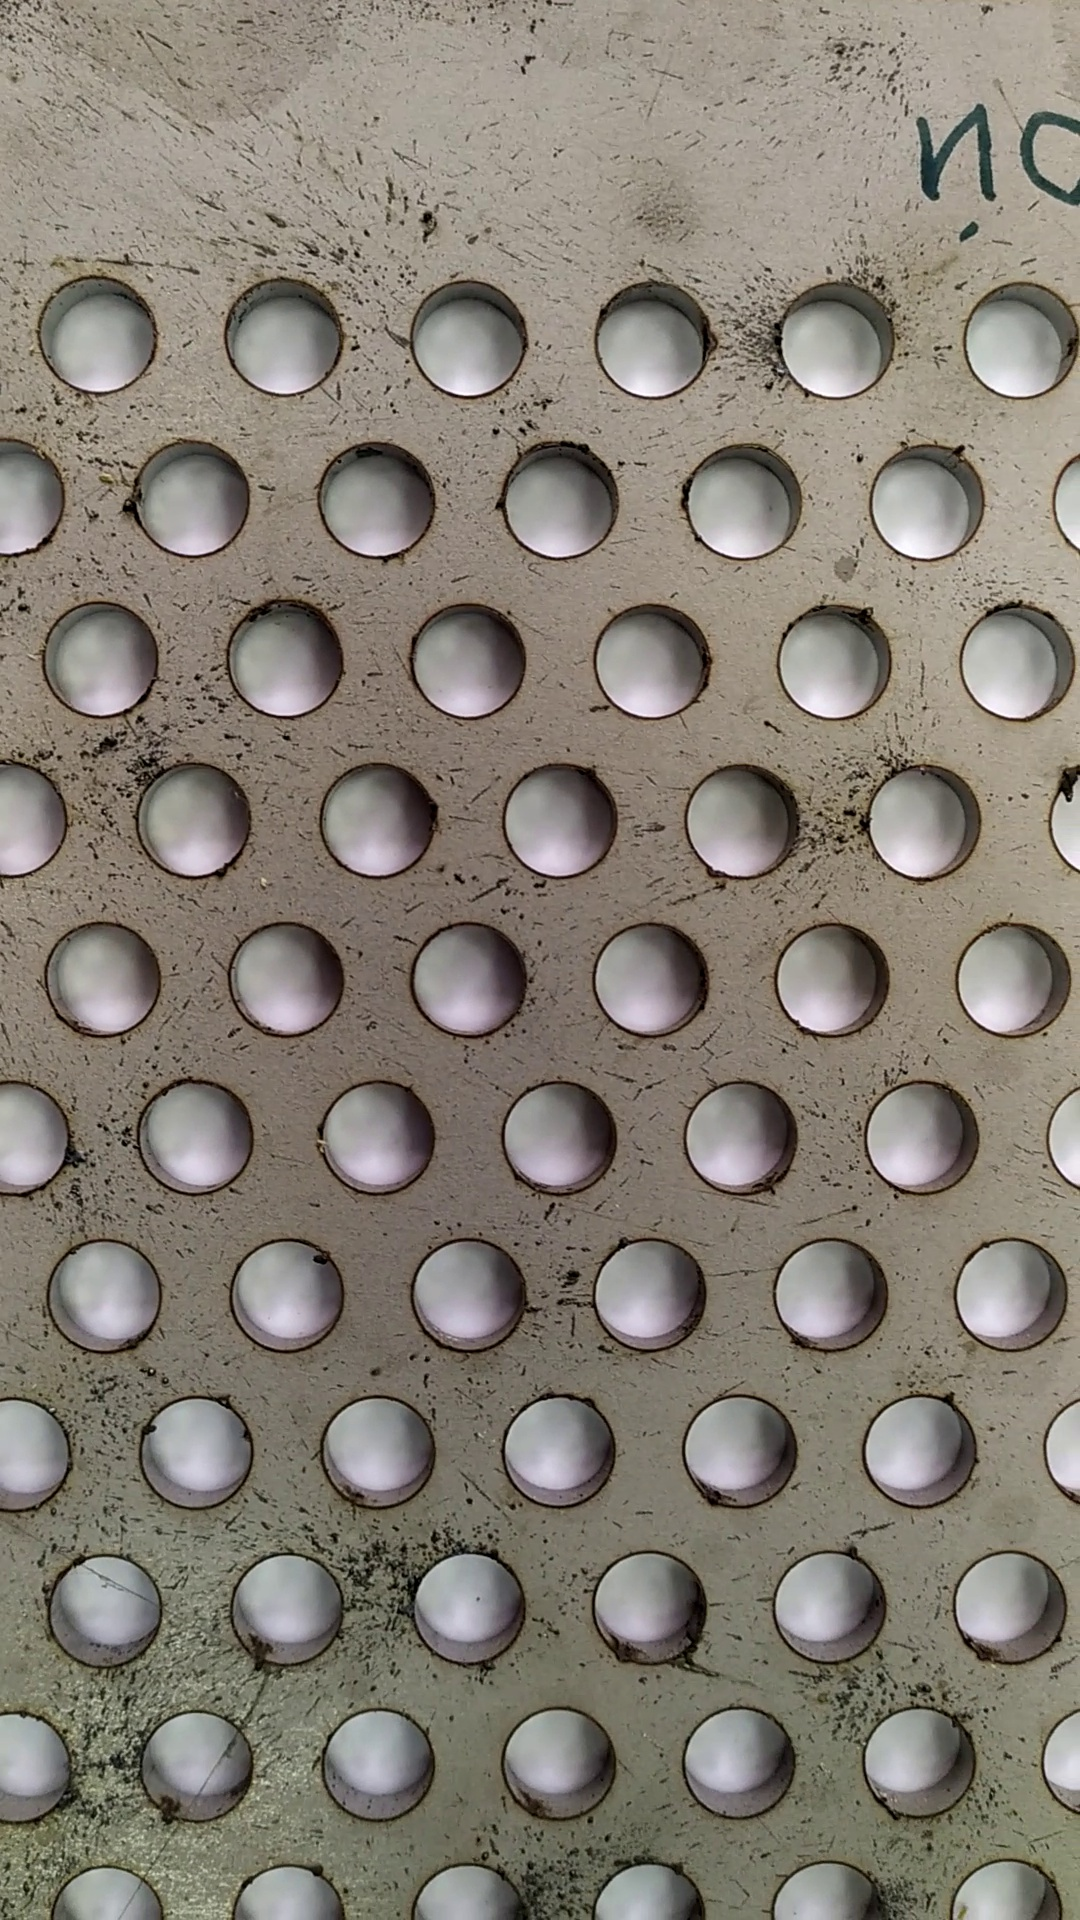Hole: (210, 583, 369, 723), (22, 583, 171, 728), (667, 1375, 820, 1516), (214, 266, 363, 404), (853, 433, 1006, 566), (116, 1695, 269, 1828), (218, 1540, 369, 1673), (112, 1389, 281, 1507), (104, 756, 258, 884), (578, 1234, 732, 1362), (305, 1379, 447, 1516), (394, 1544, 543, 1675), (302, 1701, 462, 1822), (485, 1695, 624, 1834), (853, 1689, 994, 1826), (849, 752, 992, 887), (667, 1689, 800, 1834), (398, 268, 535, 407), (673, 752, 802, 899), (392, 913, 541, 1040), (582, 589, 724, 723), (582, 270, 723, 404), (676, 1069, 808, 1211), (392, 593, 535, 723), (24, 913, 177, 1034), (857, 1377, 985, 1522), (117, 436, 265, 562), (753, 1544, 902, 1668), (32, 266, 169, 401), (120, 1068, 262, 1197), (487, 1071, 630, 1199), (491, 1393, 640, 1515), (487, 426, 622, 560), (764, 1232, 899, 1366), (947, 266, 1080, 404), (765, 911, 894, 1052), (949, 1224, 1077, 1366), (583, 913, 728, 1038), (309, 1071, 443, 1205), (220, 1228, 359, 1358), (32, 1545, 173, 1673), (679, 434, 812, 568), (858, 1071, 992, 1205), (402, 1230, 538, 1362), (949, 593, 1080, 731), (313, 752, 451, 881), (224, 909, 351, 1050), (942, 916, 1080, 1044), (582, 1540, 720, 1668), (773, 256, 891, 404), (489, 744, 620, 877), (316, 433, 443, 568), (765, 593, 899, 720), (945, 1544, 1069, 1677), (36, 1228, 167, 1352)
